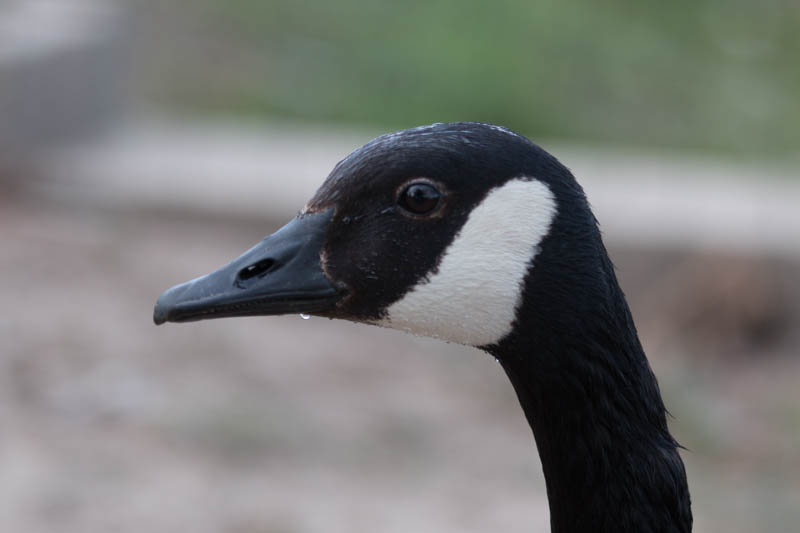goose-head: (151, 119, 608, 357)
